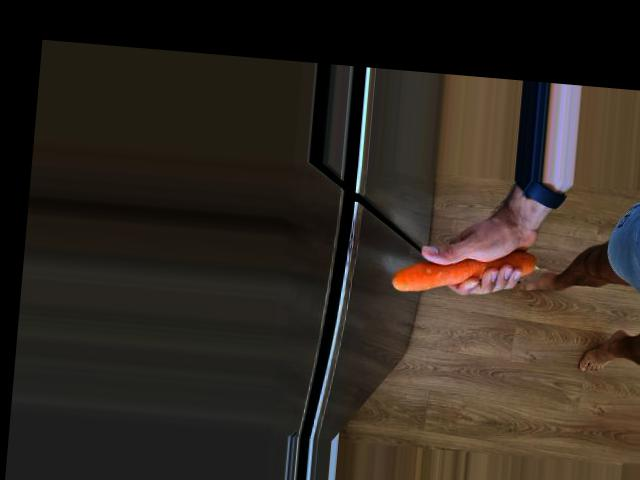carrot: (392, 240, 537, 308)
